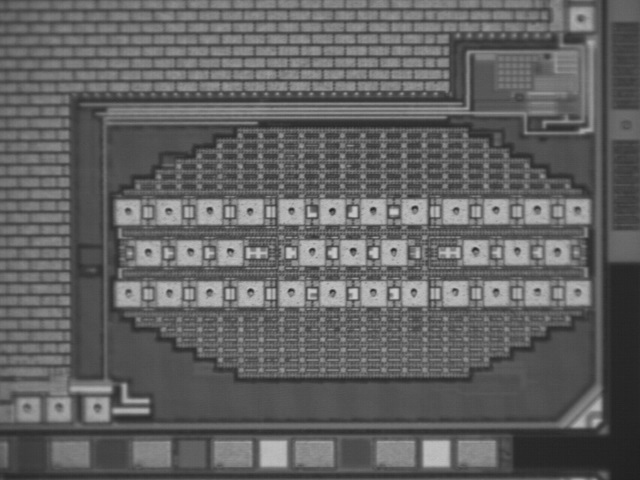normal: (112, 199, 142, 226), (152, 198, 182, 225), (194, 197, 224, 224), (235, 197, 265, 224), (275, 197, 305, 224), (317, 196, 347, 223), (357, 197, 387, 224), (399, 197, 429, 224), (439, 197, 469, 224), (481, 197, 511, 224), (522, 197, 552, 224), (563, 197, 593, 224), (542, 239, 572, 266), (501, 239, 531, 266), (460, 238, 490, 265), (378, 238, 408, 265), (337, 238, 367, 265), (297, 238, 327, 265), (215, 239, 245, 266), (174, 238, 204, 265), (132, 239, 162, 266), (112, 280, 142, 307), (153, 280, 183, 307), (194, 280, 224, 307), (235, 279, 265, 306), (276, 279, 306, 306), (317, 279, 347, 306), (357, 278, 387, 305), (398, 279, 428, 306), (439, 279, 469, 306), (480, 279, 510, 306), (521, 279, 551, 306), (562, 279, 592, 306), (81, 396, 111, 423), (42, 395, 72, 422), (13, 395, 43, 422), (567, 5, 597, 32)
